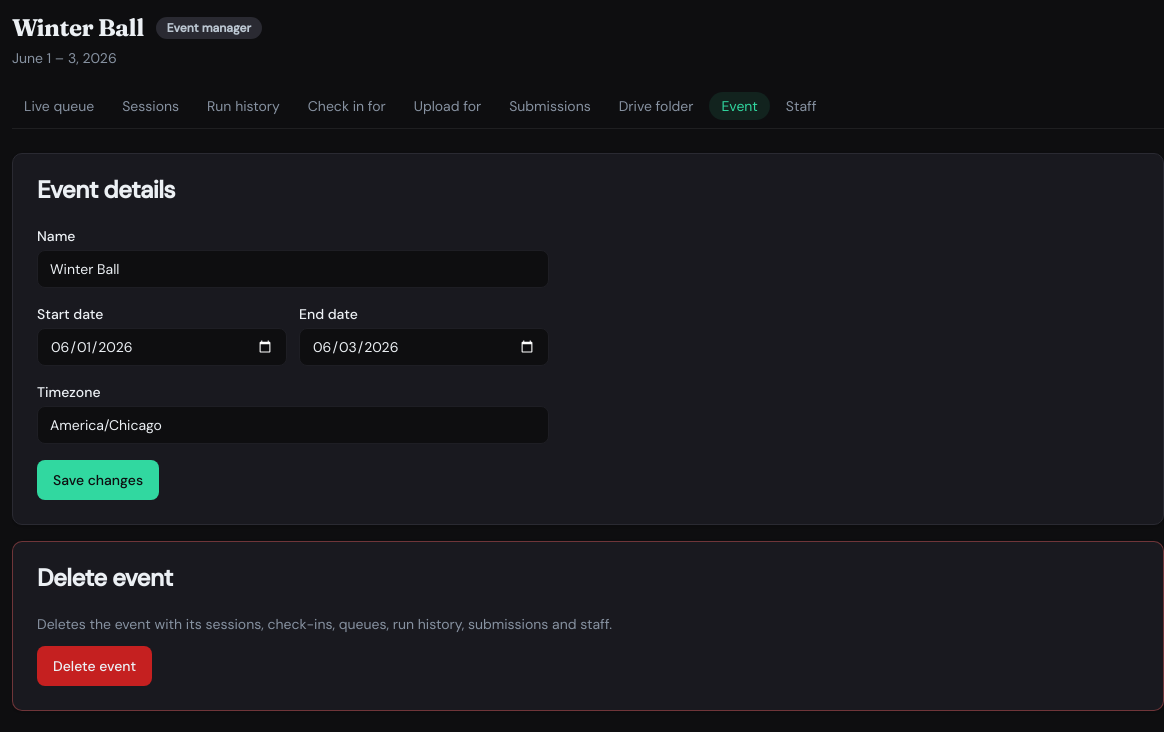
EventManagerPortalPage › edits the event through PATCH /v1/events/:id
Replace the text in the field labelled "Name" with "Winter Ball 2026" at {"x": 293, "y": 269}, box 37,250 -> 549,288
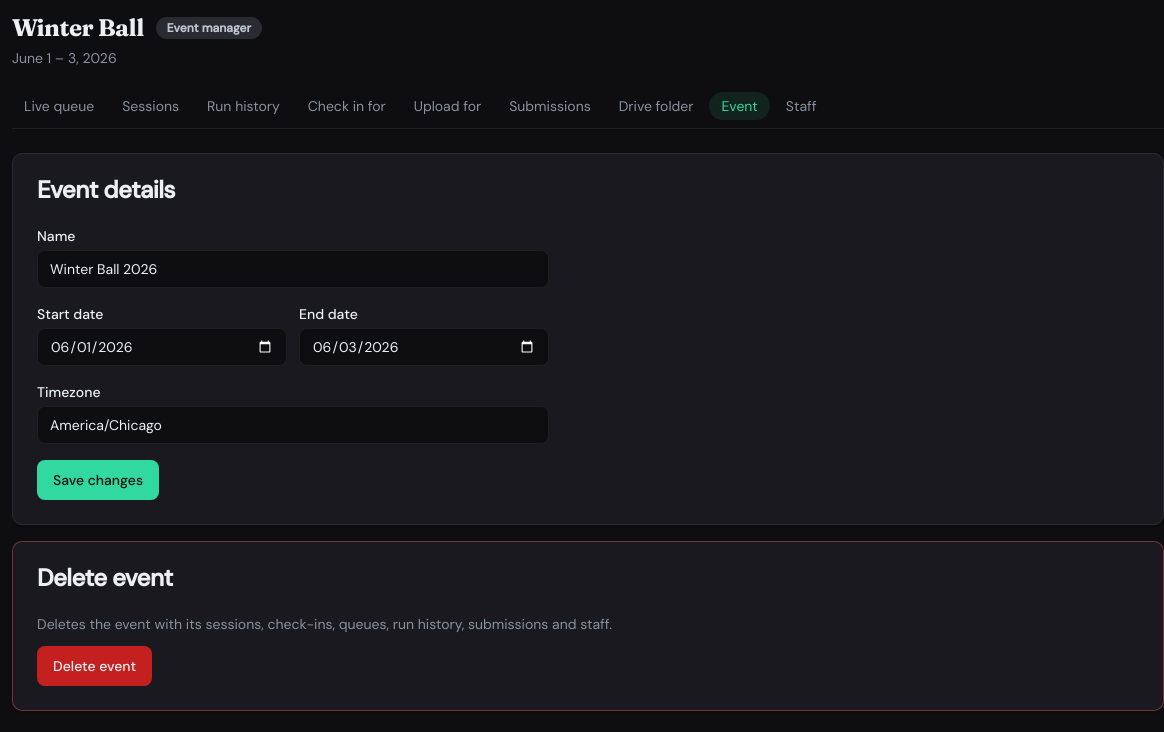
Click the button "Save changes" at {"x": 98, "y": 480}, box 37,460 -> 159,500
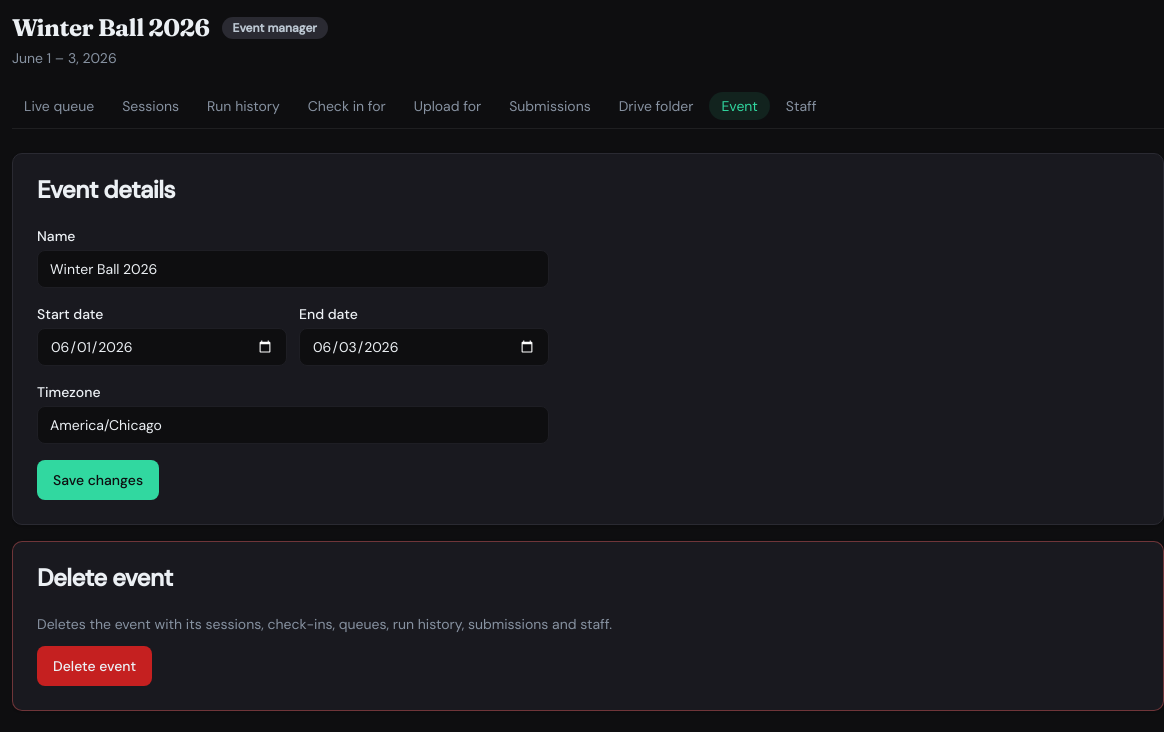
Result: the heading "Winter Ball 2026" is shown at 12,12 -> 210,44
